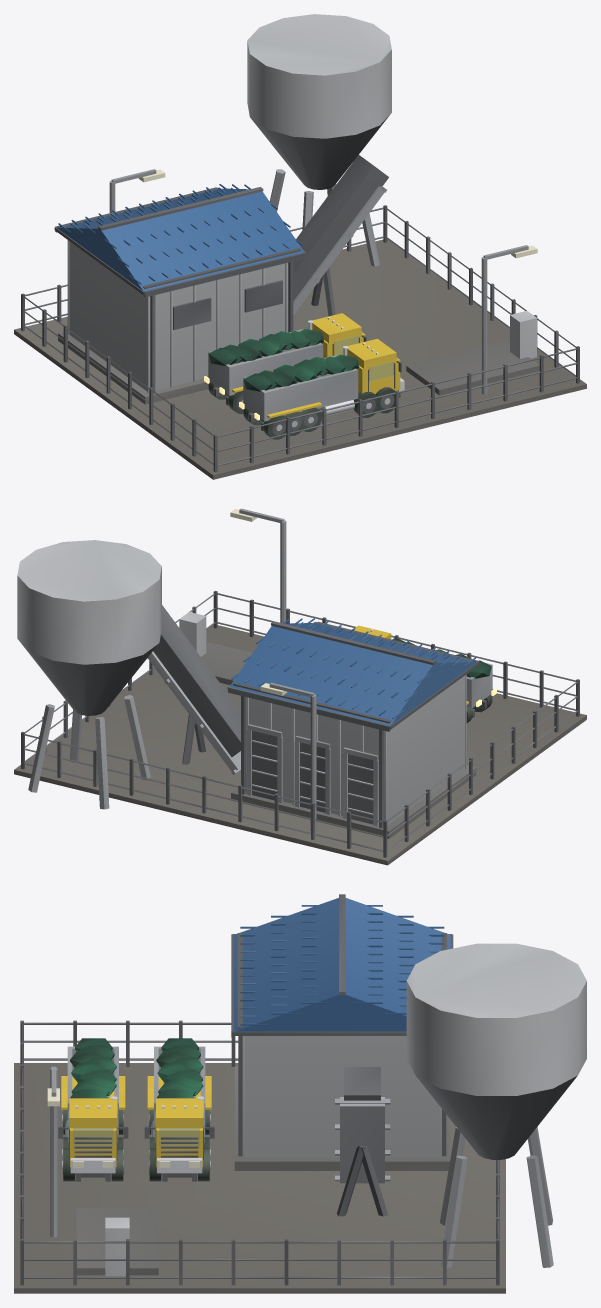
File: Haul_P2.fbx
The picture shows the model from 3 angles, top to bottom: view 1: azimuth 30°, elevation 25°; view 2: azimuth 150°, elevation 25°; view 3: azimuth 270°, elevation 25°; orthographic projection. The views are drawn at different scales.
Visible parts, largest first — view 1: Haul.Workshop, Haul.Yard, Haul.Hopper, Haul.Parked1, Haul.Fence, Haul.Conv, Haul.Parked0, Haul.Weighbridge, Haul.Lamp0, Haul.Lamp1; view 2: Haul.Workshop, Haul.Yard, Haul.Hopper, Haul.Fence, Haul.Conv, Haul.Weighbridge, Haul.Parked1, Haul.Lamp1, Haul.Lamp0; view 3: Haul.Yard, Haul.Workshop, Haul.Hopper, Haul.Fence, Haul.Parked0, Haul.Parked1, Haul.Conv, Haul.Weighbridge, Haul.Lamp0.
Boxes of the visible parts, x1,y1,x2,y2 form: Haul.Workshop: (54, 184, 306, 404); Haul.Yard: (14, 239, 586, 479); Haul.Hopper: (247, 14, 391, 266); Haul.Parked1: (239, 338, 404, 439); Haul.Fence: (21, 205, 579, 472); Haul.Conv: (293, 155, 388, 316); Haul.Parked0: (204, 313, 366, 413); Haul.Weighbridge: (406, 311, 539, 395); Haul.Lamp0: (481, 245, 537, 394); Haul.Lamp1: (109, 169, 165, 212); Haul.Workshop: (227, 618, 479, 838); Haul.Yard: (14, 625, 586, 865); Haul.Hopper: (17, 540, 161, 809); Haul.Fence: (21, 590, 579, 857); Haul.Conv: (148, 605, 240, 774); Haul.Weighbridge: (179, 612, 252, 684); Haul.Parked1: (354, 625, 496, 722); Haul.Lamp1: (260, 682, 316, 831); Haul.Lamp0: (230, 508, 286, 623); Haul.Yard: (14, 1063, 505, 1293); Haul.Workshop: (231, 894, 453, 1170); Haul.Hopper: (406, 943, 586, 1267); Haul.Fence: (20, 1020, 499, 1285); Haul.Parked0: (144, 1038, 214, 1181); Haul.Parked1: (58, 1038, 128, 1181); Haul.Conv: (335, 1067, 390, 1216); Haul.Weighbridge: (76, 1208, 158, 1276); Haul.Lamp0: (47, 1066, 59, 1237).
Size of the model in its own units: 2600 by 1456 by 2795.
